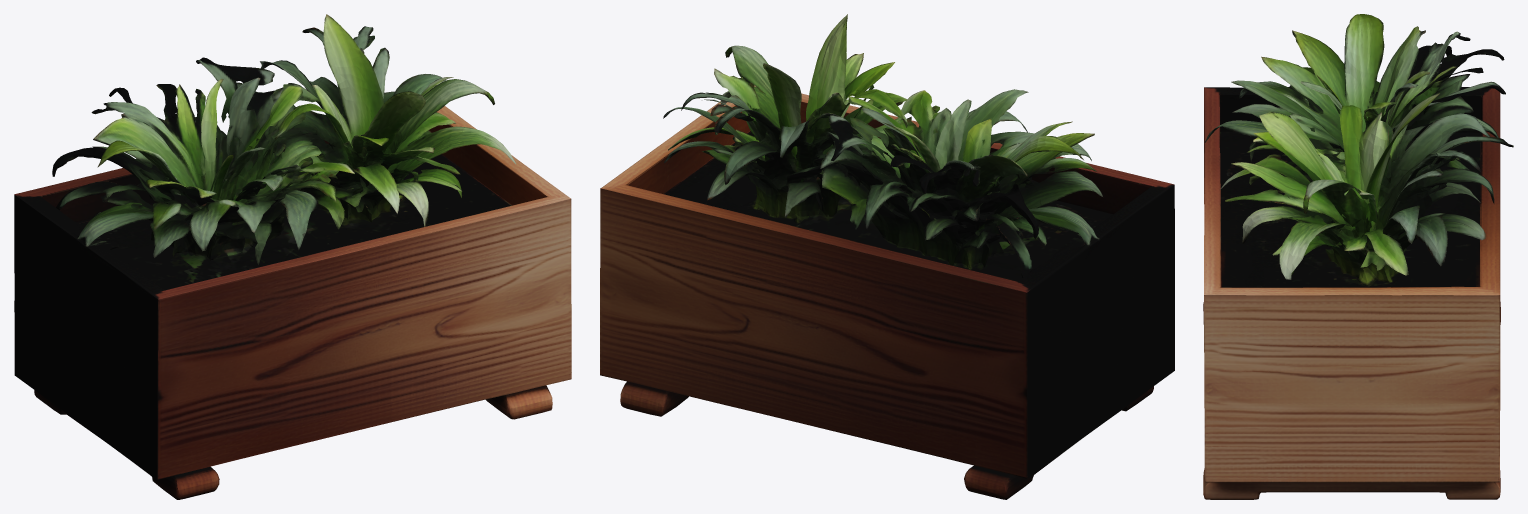
The model's file is wooden-planter-box-3d.jpeg.glb.
The picture shows the model from 3 angles, left to right: view 1: azimuth 30°, elevation 25°; view 2: azimuth 150°, elevation 25°; view 3: azimuth 270°, elevation 25°; orthographic projection. The views are drawn at different scales.
Visible parts, largest first — view 1: world; view 2: world; view 3: world.
Boxes of the visible parts, x1,y1,x2,y2 form: world: (14, 14, 571, 499); world: (600, 14, 1174, 499); world: (1203, 14, 1513, 499).
Bounding box in the file's own units: 1 × 0.7857 × 0.6287.
1 material, 1 textured.
